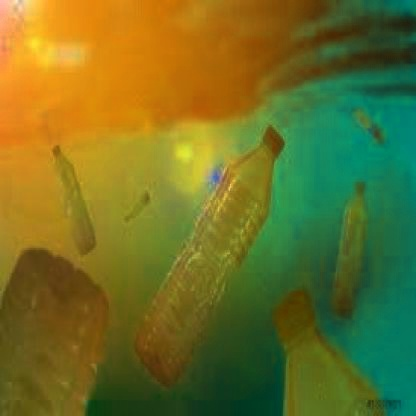pbottle: (124, 111, 292, 391), (2, 234, 113, 416), (261, 279, 391, 416), (43, 139, 104, 257), (325, 179, 372, 332), (342, 98, 387, 152), (119, 182, 158, 223)
